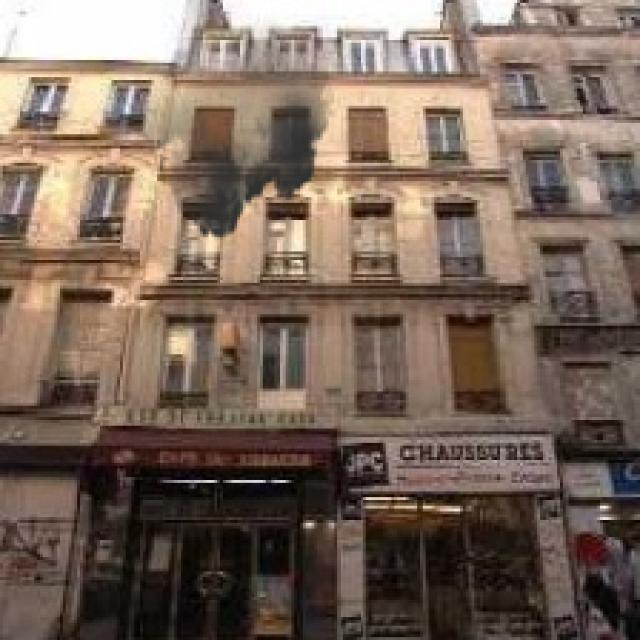smoke: (129, 12, 334, 248)
